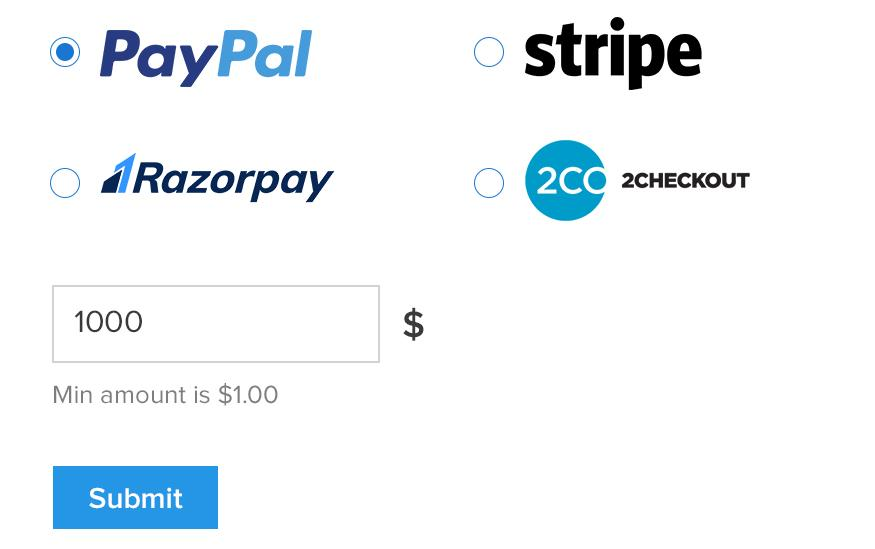button: (51, 464, 219, 533)
checkbox: (51, 282, 382, 364)
field_with_label: (44, 275, 386, 406)
radio: (474, 19, 516, 78), (47, 29, 91, 84), (45, 160, 87, 205), (474, 156, 508, 205)
radio_with_label: (465, 148, 761, 215), (463, 13, 718, 87), (35, 152, 330, 213), (39, 22, 311, 87)
